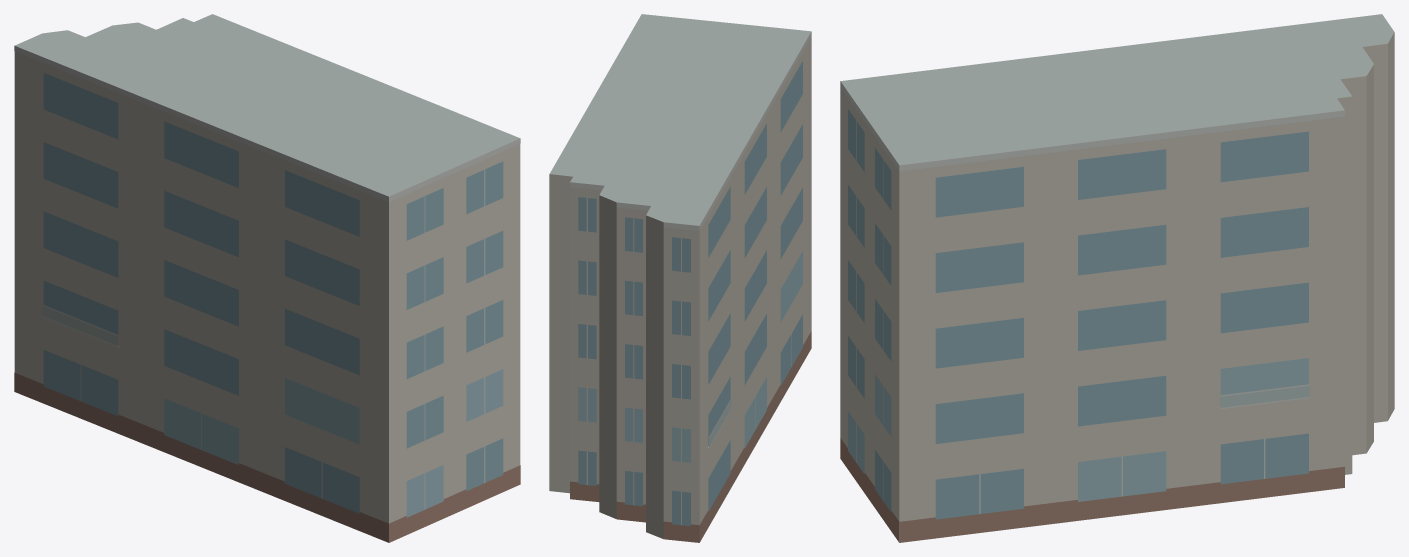
Rendered from survey-upis-32885671.glb.
The picture shows the model from 3 angles, left to right: view 1: azimuth 30°, elevation 25°; view 2: azimuth 150°, elevation 25°; view 3: azimuth 270°, elevation 25°; orthographic projection. The views are drawn at different scales.
Parts seen in each view (by area): view 1: survey-upis-32885671.tmp; view 2: survey-upis-32885671.tmp; view 3: survey-upis-32885671.tmp.
Part boxes in pixels (x1,y1,x2,y2): survey-upis-32885671.tmp: [14, 14, 520, 542]; survey-upis-32885671.tmp: [549, 14, 811, 542]; survey-upis-32885671.tmp: [840, 14, 1394, 542].
Bounding box in the file's own units: 13.21 × 15.35 × 20.43.
